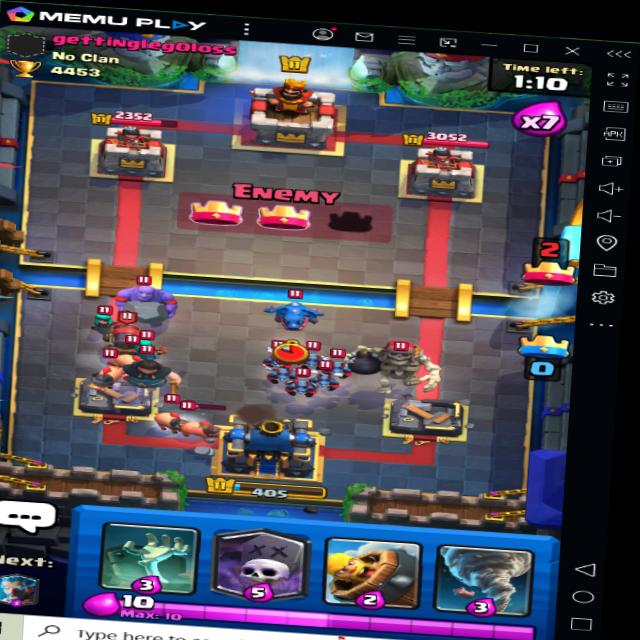bowler: (108, 266, 194, 330)
cannon-cart: (101, 309, 146, 352)
electro-dragon: (257, 284, 333, 337)
giant-skeleton: (345, 331, 445, 403)
minion: (261, 358, 298, 386), (282, 372, 318, 400), (329, 350, 362, 380), (310, 365, 339, 393), (303, 341, 330, 370)
rascal-boy: (112, 352, 187, 390)
rascal-girl: (134, 332, 173, 360), (83, 300, 121, 328)
royal-hogs: (77, 359, 130, 394), (155, 398, 195, 435), (181, 410, 226, 439), (102, 345, 145, 370)
